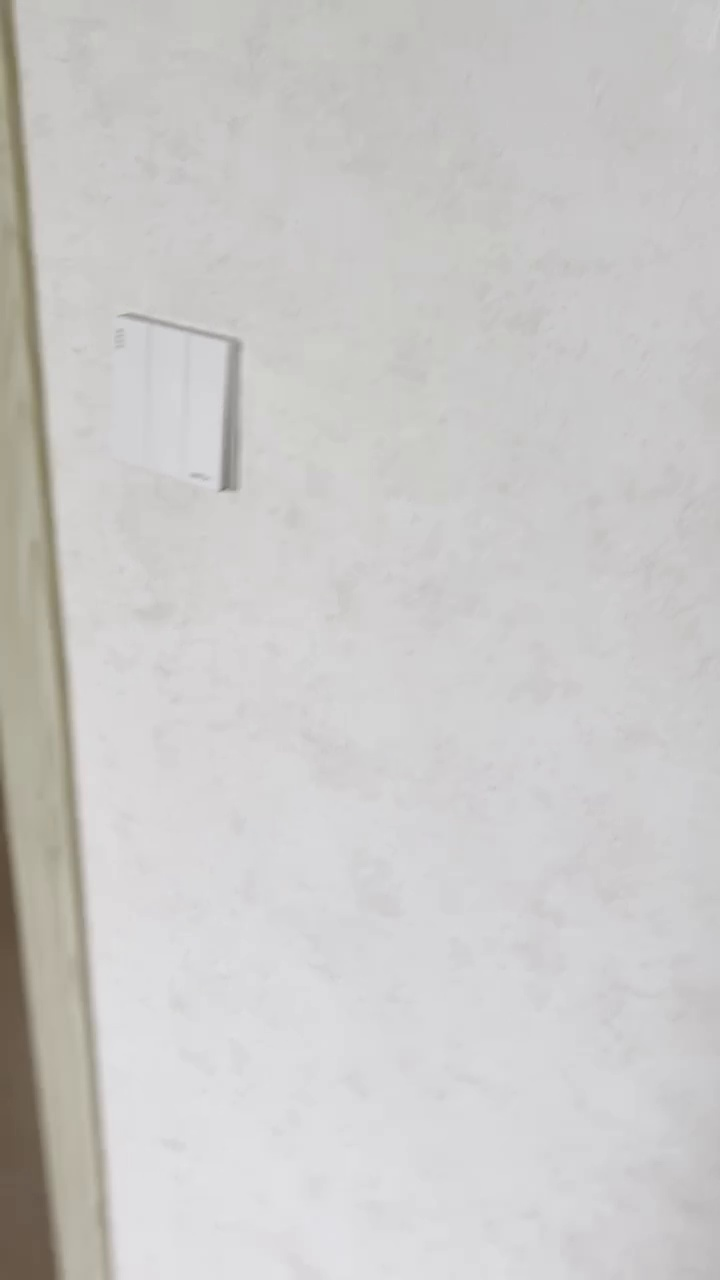button: (101, 305, 242, 490)
